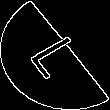L_NE: (21, 28, 89, 82)
